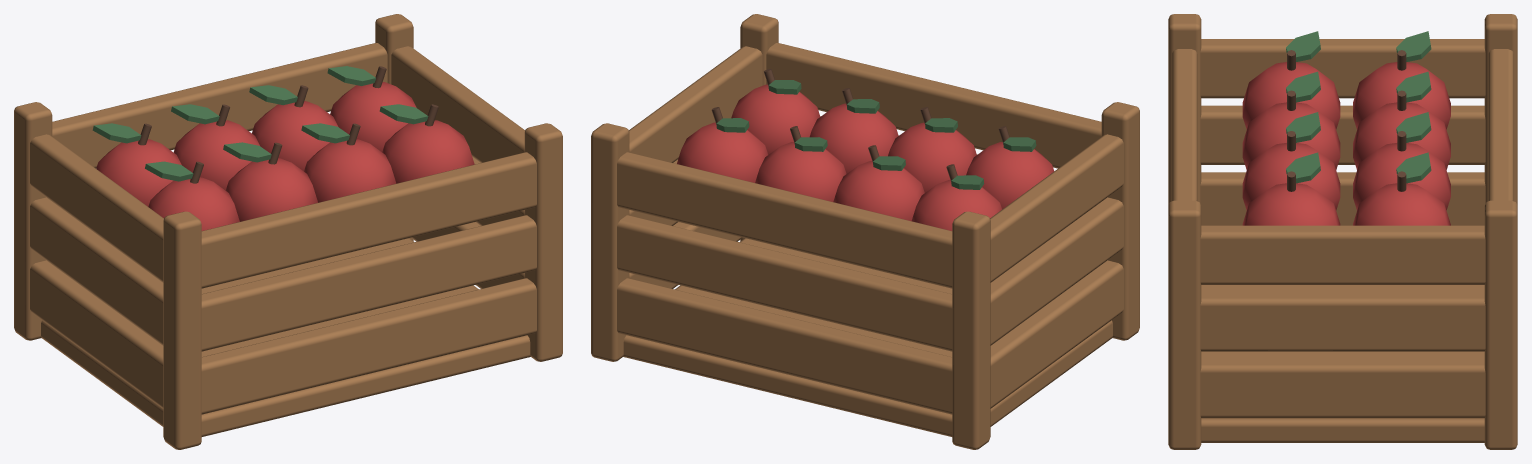
Rendered from almanac-gardens-apple-crate-85989f67__22082.glb.
3 views of the same model, side by side, from view 1: azimuth 30°, elevation 25°; view 2: azimuth 150°, elevation 25°; view 3: azimuth 270°, elevation 25° (orthographic). The views are drawn at different scales.
Parts seen in each view (by area): view 1: apple-crate-oak, apple-crate-red, apple-crate-leaf, apple-crate-bark; view 2: apple-crate-oak, apple-crate-red, apple-crate-leaf, apple-crate-bark; view 3: apple-crate-oak, apple-crate-red, apple-crate-leaf, apple-crate-bark.
Part boxes in pixels (box(x1,y1,x2,y2)): apple-crate-oak: box(14, 14, 562, 449); apple-crate-red: box(96, 82, 474, 230); apple-crate-leaf: box(92, 66, 428, 181); apple-crate-bark: box(138, 66, 438, 183); apple-crate-oak: box(591, 14, 1139, 449); apple-crate-red: box(677, 84, 1054, 230); apple-crate-leaf: box(716, 80, 1036, 189); apple-crate-bark: box(711, 69, 1009, 181); apple-crate-oak: box(1168, 14, 1517, 449); apple-crate-red: box(1242, 62, 1450, 225); apple-crate-leaf: box(1286, 31, 1431, 183); apple-crate-bark: box(1287, 50, 1406, 191).
Size of the model in its own units: 0.645 by 0.3631 by 0.475.
